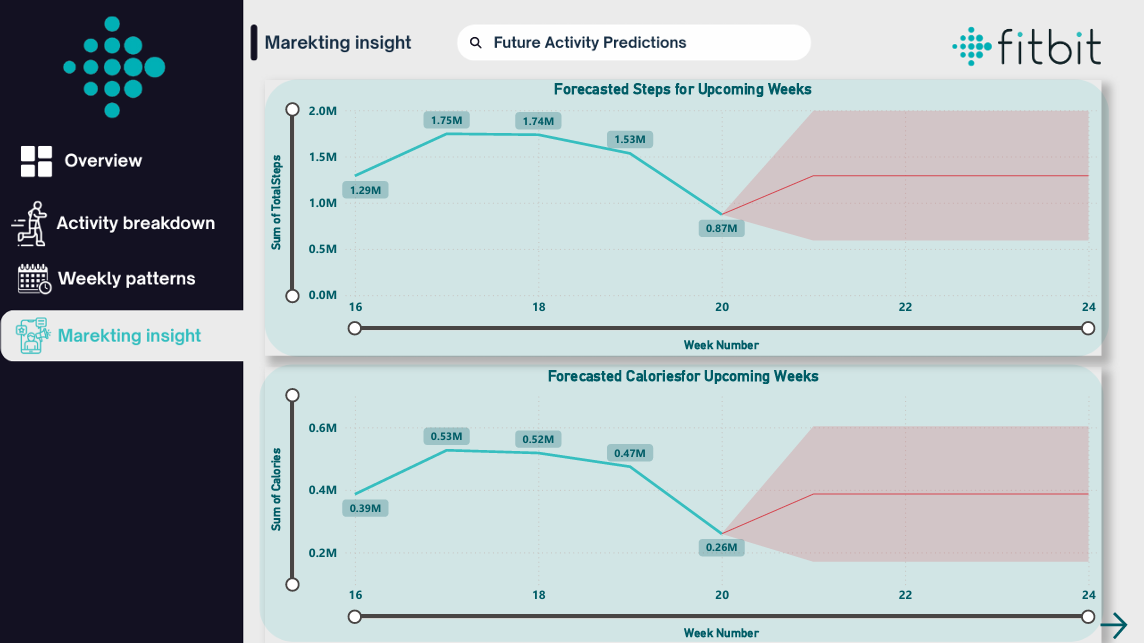

Layout of this report page (visuals, bound fields, positions):
{"tool":"powerbi","page":{"name":"Marekting insight","canvas":[1280,720],"ordinal":3},"visuals":[{"type":"lineChart","title":"Forecasted Steps for Upcoming Weeks","fields":{"Category":["cleaned_dailyActivity.Week Number"],"Y":["Sum(cleaned_dailyActivity.TotalSteps)"]},"box":[295.9,89.1,936.9,308.6],"z":0},{"type":"lineChart","title":"Forecasted Caloriesfor Upcoming Weeks","fields":{"Category":["cleaned_dailyActivity.Week Number"],"Y":["Sum(cleaned_dailyActivity.Calories)"]},"box":[295.9,410.4,936.9,310.2],"z":1000},{"type":"actionButton","box":[1226,680,54,40],"z":2000},{"type":"actionButton","box":[0,146,196,62],"z":3000},{"type":"actionButton","box":[0,218,258,62],"z":4000},{"type":"actionButton","box":[0,280,236,60],"z":5000}]}

Visuals, with their boxes on the page's 1280x720 design canvas (x1, y1, x2, y2). These are canvas units, not pixel positions in the 1144x643 screenshot, which may show the page scaled, cropped or inside an application window:
"Forecasted Steps for Upcoming Weeks" lineChart: (296,89,1233,398)
"Forecasted Caloriesfor Upcoming Weeks" lineChart: (296,410,1233,721)
actionButton: (1226,680,1280,720)
actionButton: (0,146,196,208)
actionButton: (0,218,258,280)
actionButton: (0,280,236,340)
